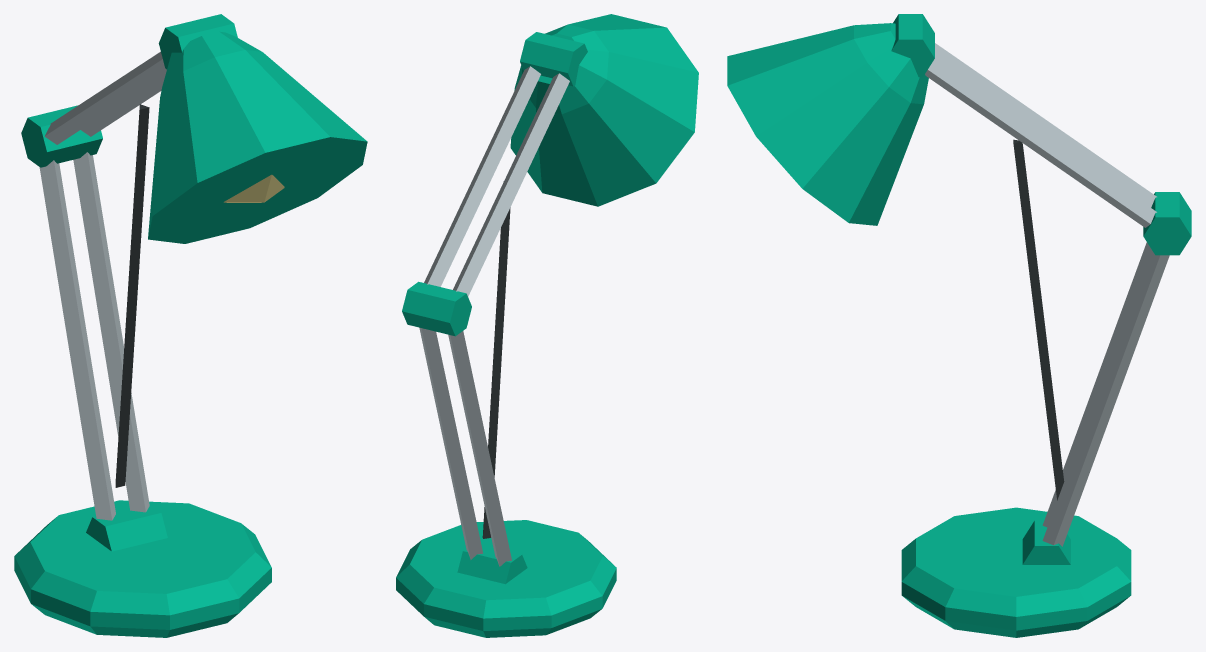
The model's file is schreibtischlampe.glb.
3 views of the same model, side by side, from view 1: azimuth 30°, elevation 25°; view 2: azimuth 150°, elevation 25°; view 3: azimuth 270°, elevation 25° (orthographic). The views are drawn at different scales.
Visible parts, largest first — view 1: schreibtischlampe-m; view 2: schreibtischlampe-m; view 3: schreibtischlampe-m.
Boxes of the visible parts, x1,y1,x2,y2 form: schreibtischlampe-m: (14, 14, 367, 637); schreibtischlampe-m: (396, 14, 698, 637); schreibtischlampe-m: (727, 14, 1191, 637).
Bounding box in the file's own units: 0.16 × 0.4139 × 0.3074.
